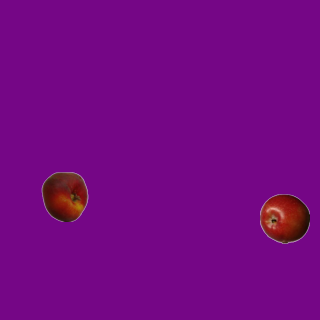Apple Braeburn: (259, 193, 309, 243)
Nectarine Flat: (39, 171, 89, 221)
